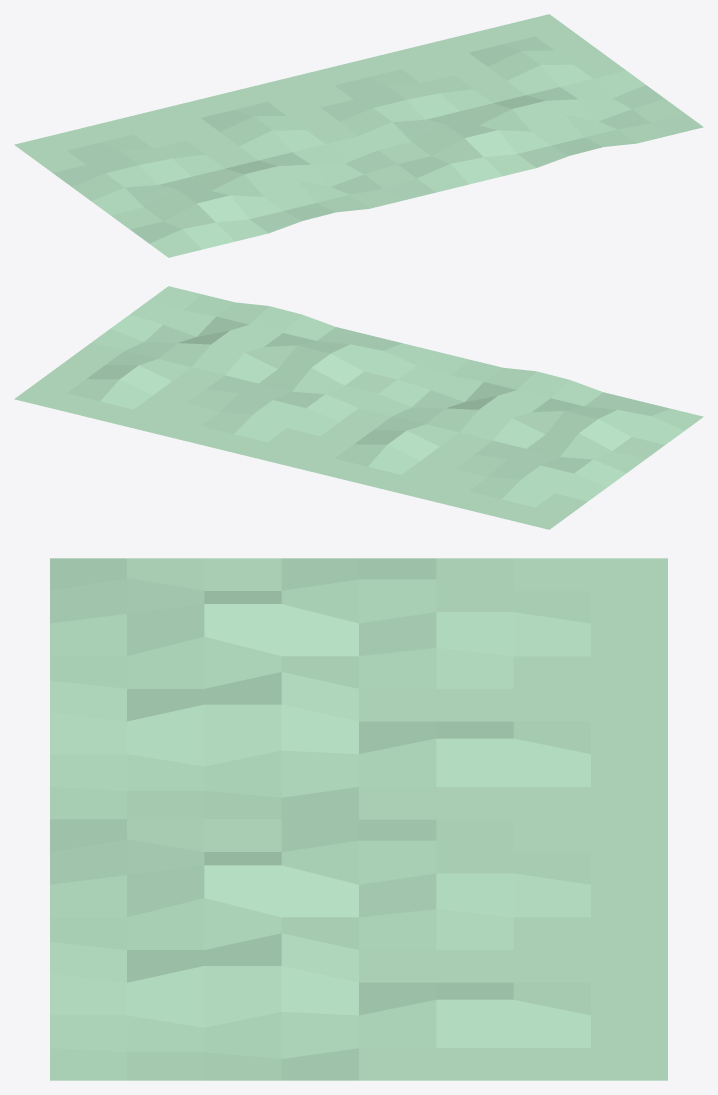
The model's file is Ground.fbx.
3 views of the same model, one above another, from view 1: azimuth 30°, elevation 25°; view 2: azimuth 150°, elevation 25°; view 3: azimuth 270°, elevation 25° (orthographic). The views are drawn at different scales.
Visible parts, largest first — view 1: Ground; view 2: Ground; view 3: Ground.
Part boxes in pixels (box(x1,y1,x2,y2)): Ground: box(14, 14, 703, 257); Ground: box(14, 286, 703, 529); Ground: box(50, 558, 667, 1080).
Bounding box in the file's own units: 18460 × 525 × 9230.
